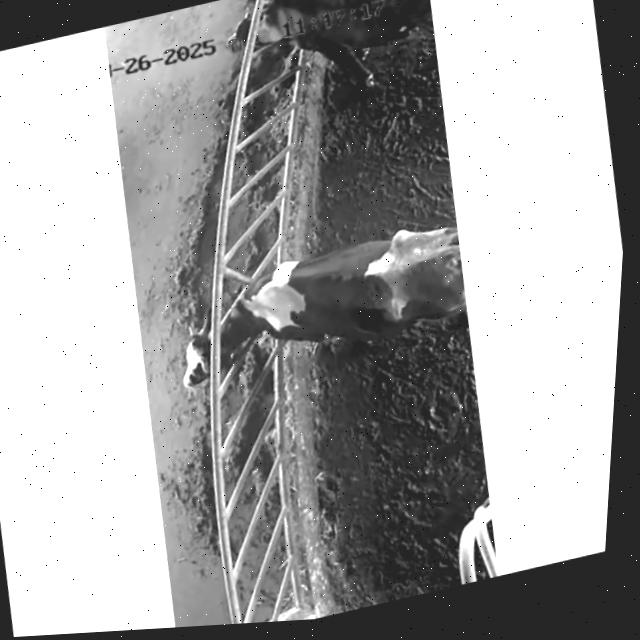eat: (158, 243, 351, 404), (195, 0, 362, 102)
